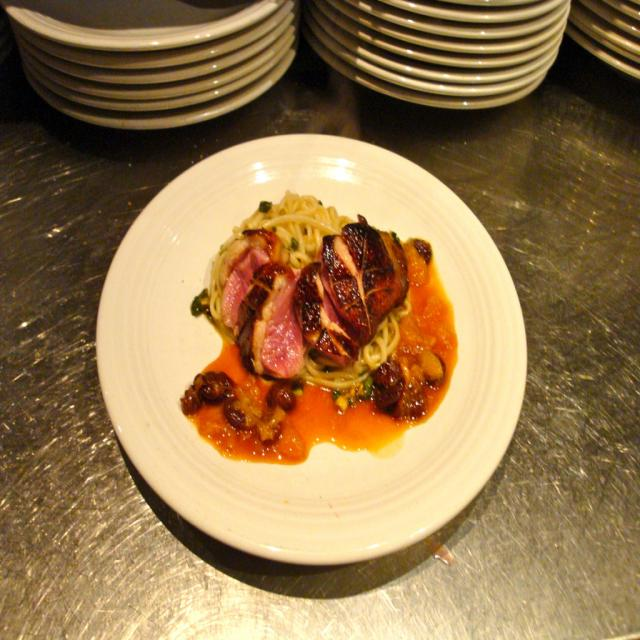non-organic waste: (72, 115, 566, 615)
